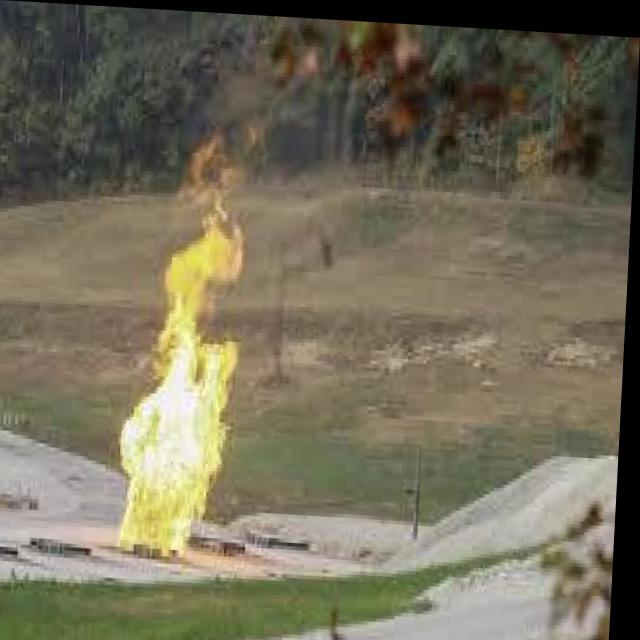fire: (114, 147, 258, 558)
